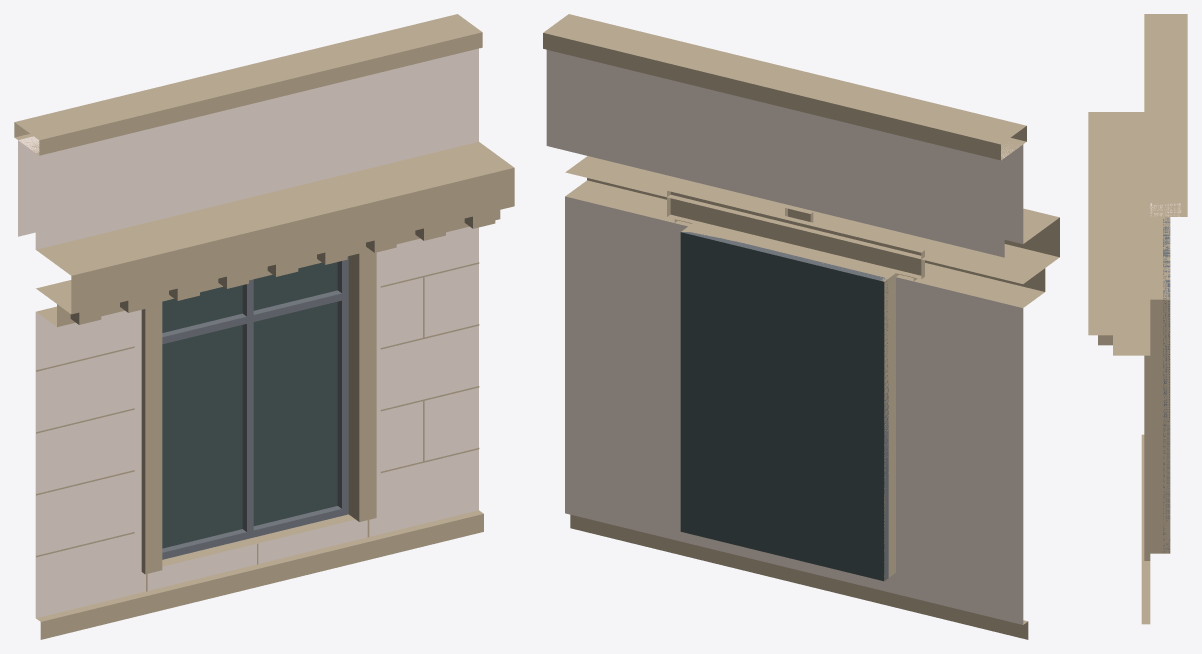
Rendered from top-w1_close.fbx.
The picture shows the model from 3 angles, left to right: view 1: azimuth 30°, elevation 25°; view 2: azimuth 150°, elevation 25°; view 3: azimuth 270°, elevation 25°; orthographic projection. The views are drawn at different scales.
Parts seen in each view (by area): view 1: a2019/250/top-w1_close; view 2: a2019/250/top-w1_close; view 3: a2019/250/top-w1_close.
Part boxes in pixels (x1,y1,x2,y2): a2019/250/top-w1_close: (14, 14, 514, 639); a2019/250/top-w1_close: (543, 14, 1059, 639); a2019/250/top-w1_close: (1088, 14, 1187, 624).
Bounding box in the file's own units: 3.6 × 3.87 × 0.8.
